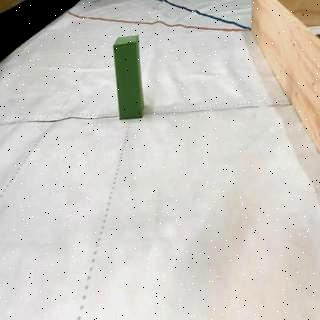greenbox: (116, 38, 142, 119)
